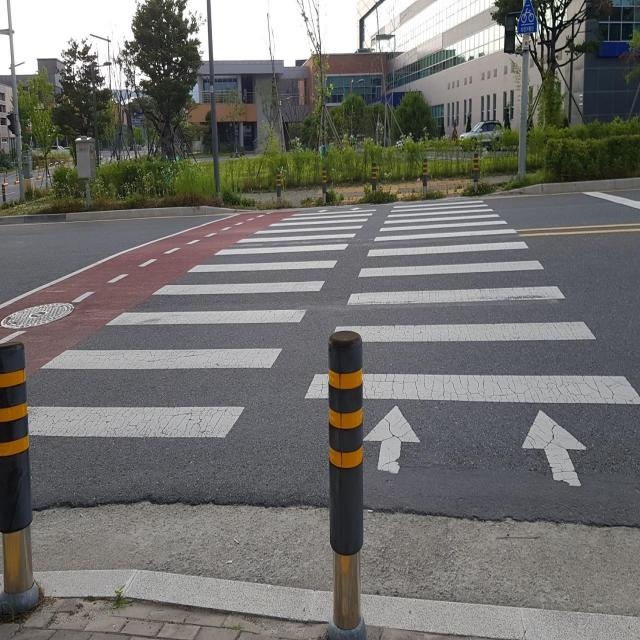횡단보도: (23, 195, 640, 492)
